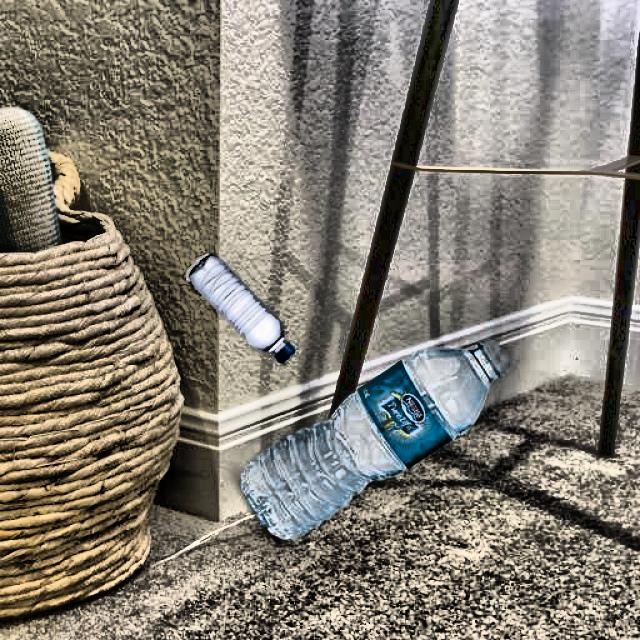plastic bottle: (241, 341, 511, 541), (186, 254, 296, 363)
